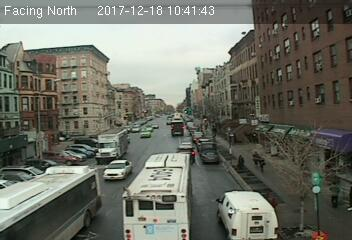bus: (121, 153, 193, 240)
car: (102, 159, 133, 181), (202, 148, 219, 164)
truck: (217, 190, 281, 240), (97, 129, 127, 158)
